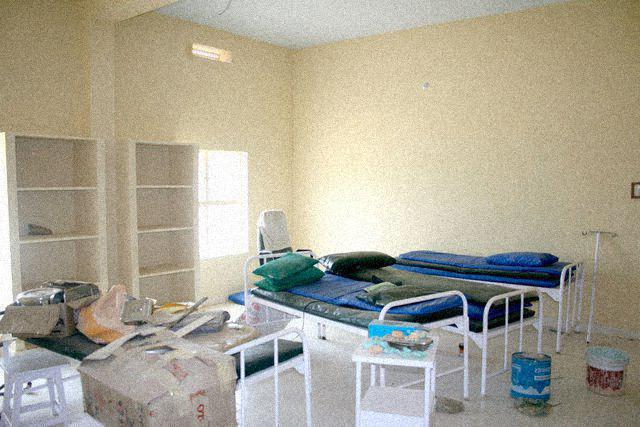Otro Obstaculo: (581, 339, 629, 400), (503, 349, 555, 404)
